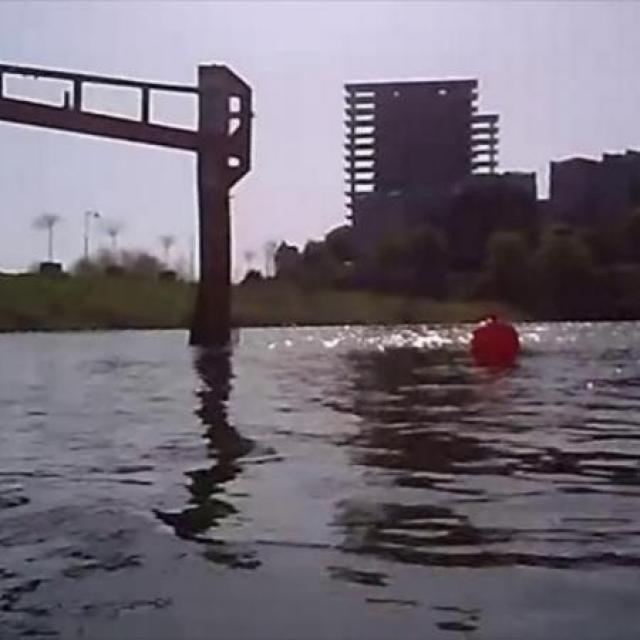buoy: (471, 318, 516, 368)
